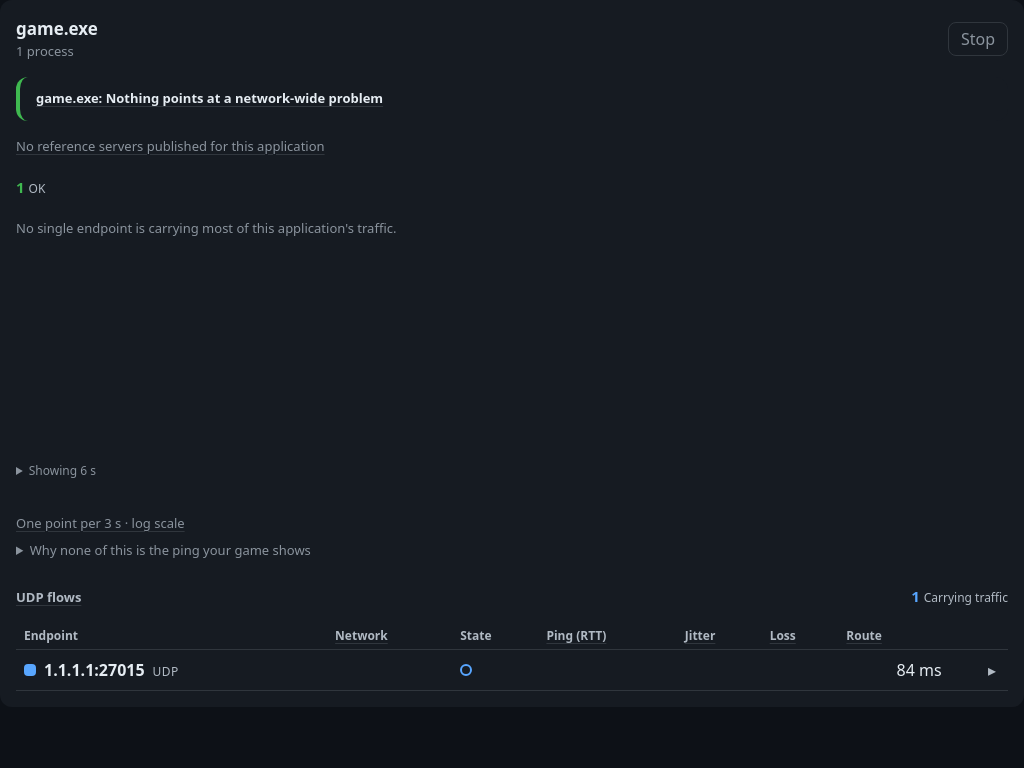
it: AppCard › keeps the path figure beside a silent endpoint rather than standing in for it
Expected: the text "The route towards it" is not shown
What coordinates should you click on to do the following:
click the button "▸"
I would click on:
 (992, 670)
Its box is [984,658,1000,682].
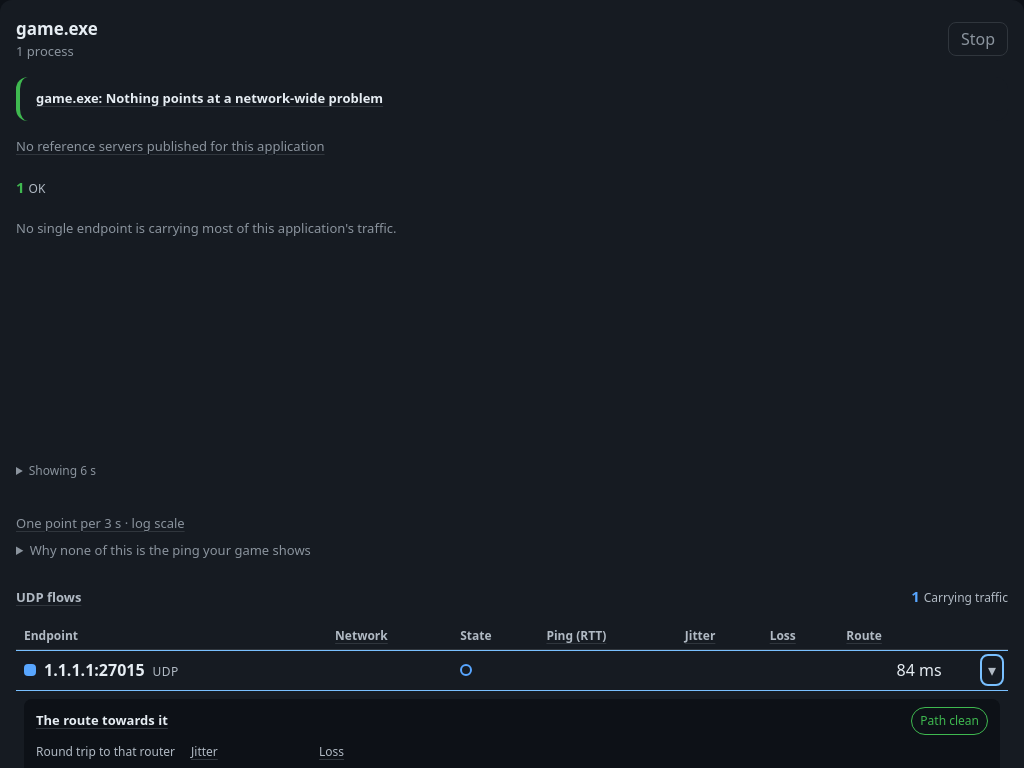
Expected: the heading "Why none of this is the ping your game shows" is shown, [30,541,311,559]
Result: the button "The route towards it" is shown at [36,711,168,731]
Result: the text "Round trip to that router" is shown at [36,743,175,761]
